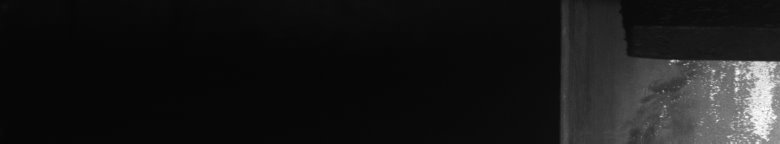kb: (657, 52, 776, 127)
